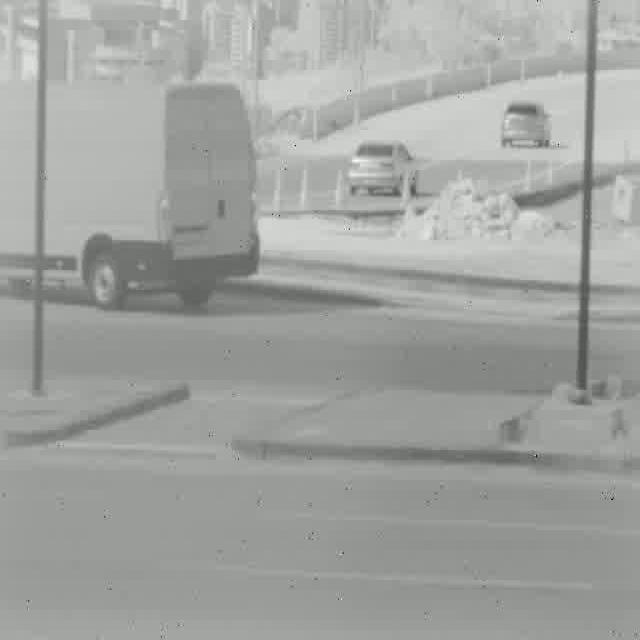Car: (0, 78, 259, 308), (348, 140, 419, 194), (504, 101, 554, 148)
